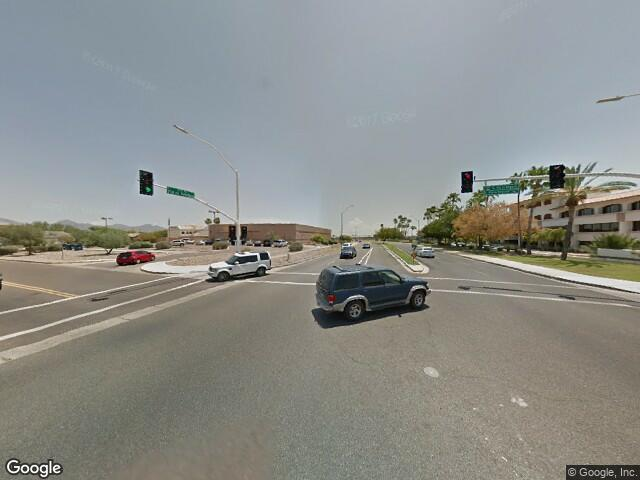c: (182, 266, 208, 277)
l: (1, 275, 205, 343), (429, 275, 639, 306), (245, 268, 315, 288)
